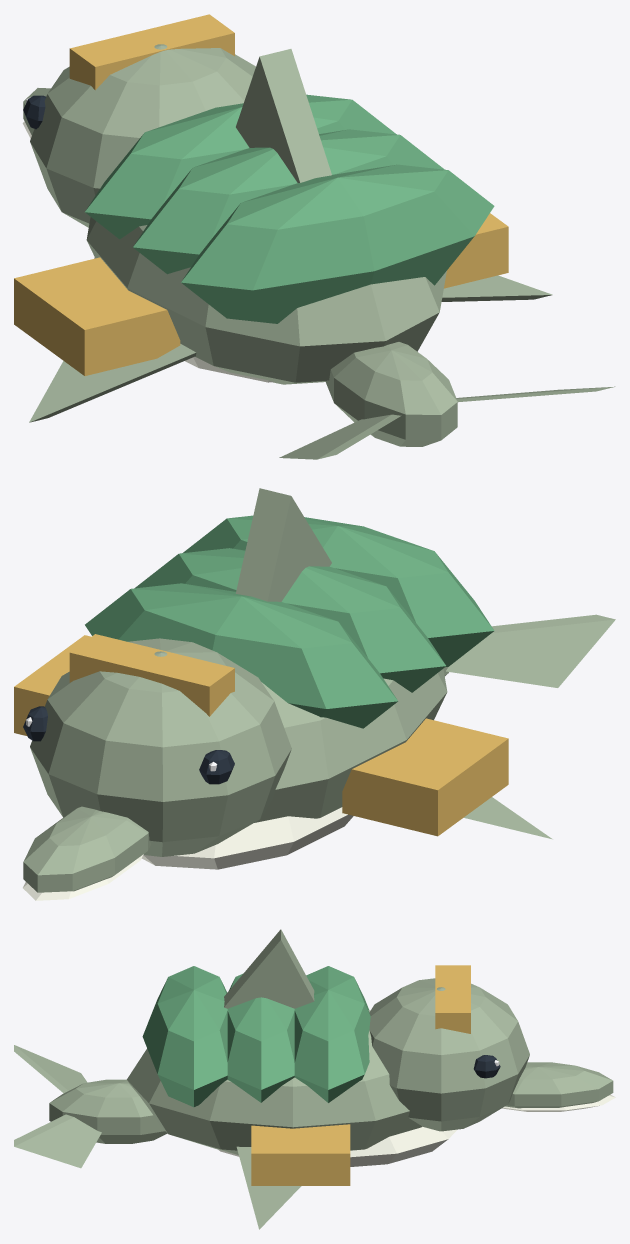
File: armored.glb
3 views of the same model, one above another, from view 1: azimuth 30°, elevation 25°; view 2: azimuth 150°, elevation 25°; view 3: azimuth 270°, elevation 25° (orthographic). The views are drawn at different scales.
Parts seen in each view (by area): view 1: Overlapping shell armor, DolphinBody.013, DolphinForehead.013, Overlapping shell armor.001, Heavy flipper gauntlet, Overlapping shell armor.002, Tail stem.013, DorsalFin.013, Helmet brow, FlipperLeft.013, Heavy flipper gauntlet.001, FlipperRight.013 (+2 smaller); view 2: DolphinForehead.013, Overlapping shell armor.002, Heavy flipper gauntlet, Overlapping shell armor.001, Overlapping shell armor, DolphinBody.013, Distinct dolphin beak.013, TailFlukeLeft.013, DorsalFin.013, Helmet brow, Pale belly.013, Heavy flipper gauntlet.001 (+4 smaller); view 3: DolphinForehead.013, DolphinBody.013, Overlapping shell armor, Overlapping shell armor.002, Overlapping shell armor.001, Heavy flipper gauntlet.001, Tail stem.013, DorsalFin.013, Distinct dolphin beak.013, TailFlukeRight.013, Helmet brow, Pale belly.013 (+4 smaller).
Part boxes in pixels (left/top/right/bottom): Overlapping shell armor: left=181, top=164, right=494, bottom=323; DolphinBody.013: left=86, top=217, right=446, bottom=384; DolphinForehead.013: left=30, top=44, right=255, bottom=227; Overlapping shell armor.001: left=133, top=129, right=444, bottom=274; Heavy flipper gauntlet: left=14, top=257, right=180, bottom=375; Overlapping shell armor.002: left=85, top=94, right=396, bottom=239; Tail stem.013: left=325, top=342, right=457, bottom=446; DorsalFin.013: left=236, top=49, right=331, bottom=182; Helmet brow: left=69, top=14, right=234, bottom=90; FlipperLeft.013: left=29, top=344, right=196, bottom=422; Heavy flipper gauntlet.001: left=444, top=213, right=508, bottom=288; FlipperRight.013: left=441, top=275, right=552, bottom=301; DolphinForehead.013: left=30, top=638, right=291, bottom=856; Overlapping shell armor.002: left=85, top=583, right=398, bottom=728; Heavy flipper gauntlet: left=342, top=718, right=508, bottom=836; Overlapping shell armor.001: left=135, top=548, right=445, bottom=692; Overlapping shell armor: left=182, top=515, right=494, bottom=667; DolphinBody.013: left=254, top=669, right=447, bottom=822; Distinct dolphin beak.013: left=23, top=806, right=151, bottom=892; TailFlukeLeft.013: left=446, top=614, right=615, bottom=687; DorsalFin.013: left=235, top=488, right=331, bottom=601; Helmet brow: left=69, top=634, right=234, bottom=716; Pale belly.013: left=141, top=807, right=353, bottom=869; Heavy flipper gauntlet.001: left=14, top=635, right=90, bottom=736; DolphinForehead.013: left=369, top=978, right=529, bottom=1131; DolphinBody.013: left=127, top=1010, right=422, bottom=1155; Overlapping shell armor: left=142, top=966, right=227, bottom=1107; Overlapping shell armor.002: left=294, top=966, right=370, bottom=1102; Overlapping shell armor.001: left=227, top=973, right=294, bottom=1102; Heavy flipper gauntlet.001: left=251, top=1124, right=350, bottom=1185; Tail stem.013: left=49, top=1079, right=167, bottom=1143; DorsalFin.013: left=224, top=929, right=314, bottom=1008; Distinct dolphin beak.013: left=505, top=1062, right=613, bottom=1108; TailFlukeRight.013: left=14, top=1114, right=101, bottom=1168; Helmet brow: left=435, top=965, right=470, bottom=1033; Pale belly.013: left=218, top=1126, right=456, bottom=1166.
Bounding box in the file's own units: 2.68 × 1.5 × 3.8.
